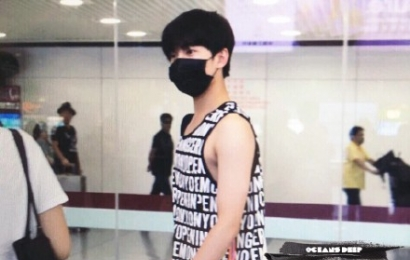face_mask: (168, 45, 211, 98), (354, 130, 365, 141)
